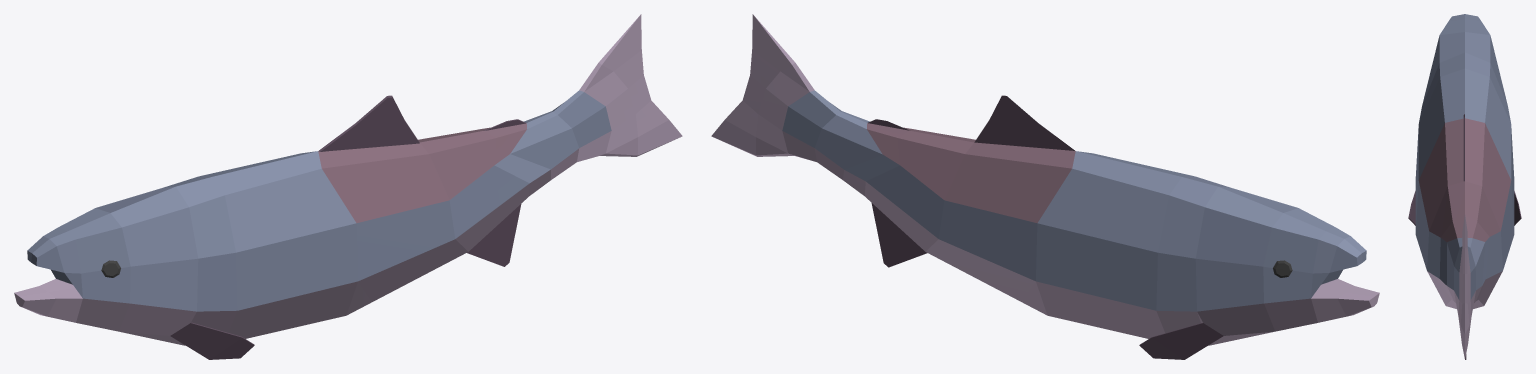
Rendered from Fish_002.fbx.
3 renders of one model, left to right at view 1: azimuth 30°, elevation 25°; view 2: azimuth 150°, elevation 25°; view 3: azimuth 270°, elevation 25°, orthographic. The views are drawn at different scales.
Parts seen in each view (by area): view 1: Fish_002; view 2: Fish_002; view 3: Fish_002.
Boxes of the visible parts, x1,y1,x2,y2 form: Fish_002: (14,14,682,359); Fish_002: (711,14,1379,359); Fish_002: (1408,14,1521,359).
Size of the model in its own units: 490 by 159 by 75.81.
